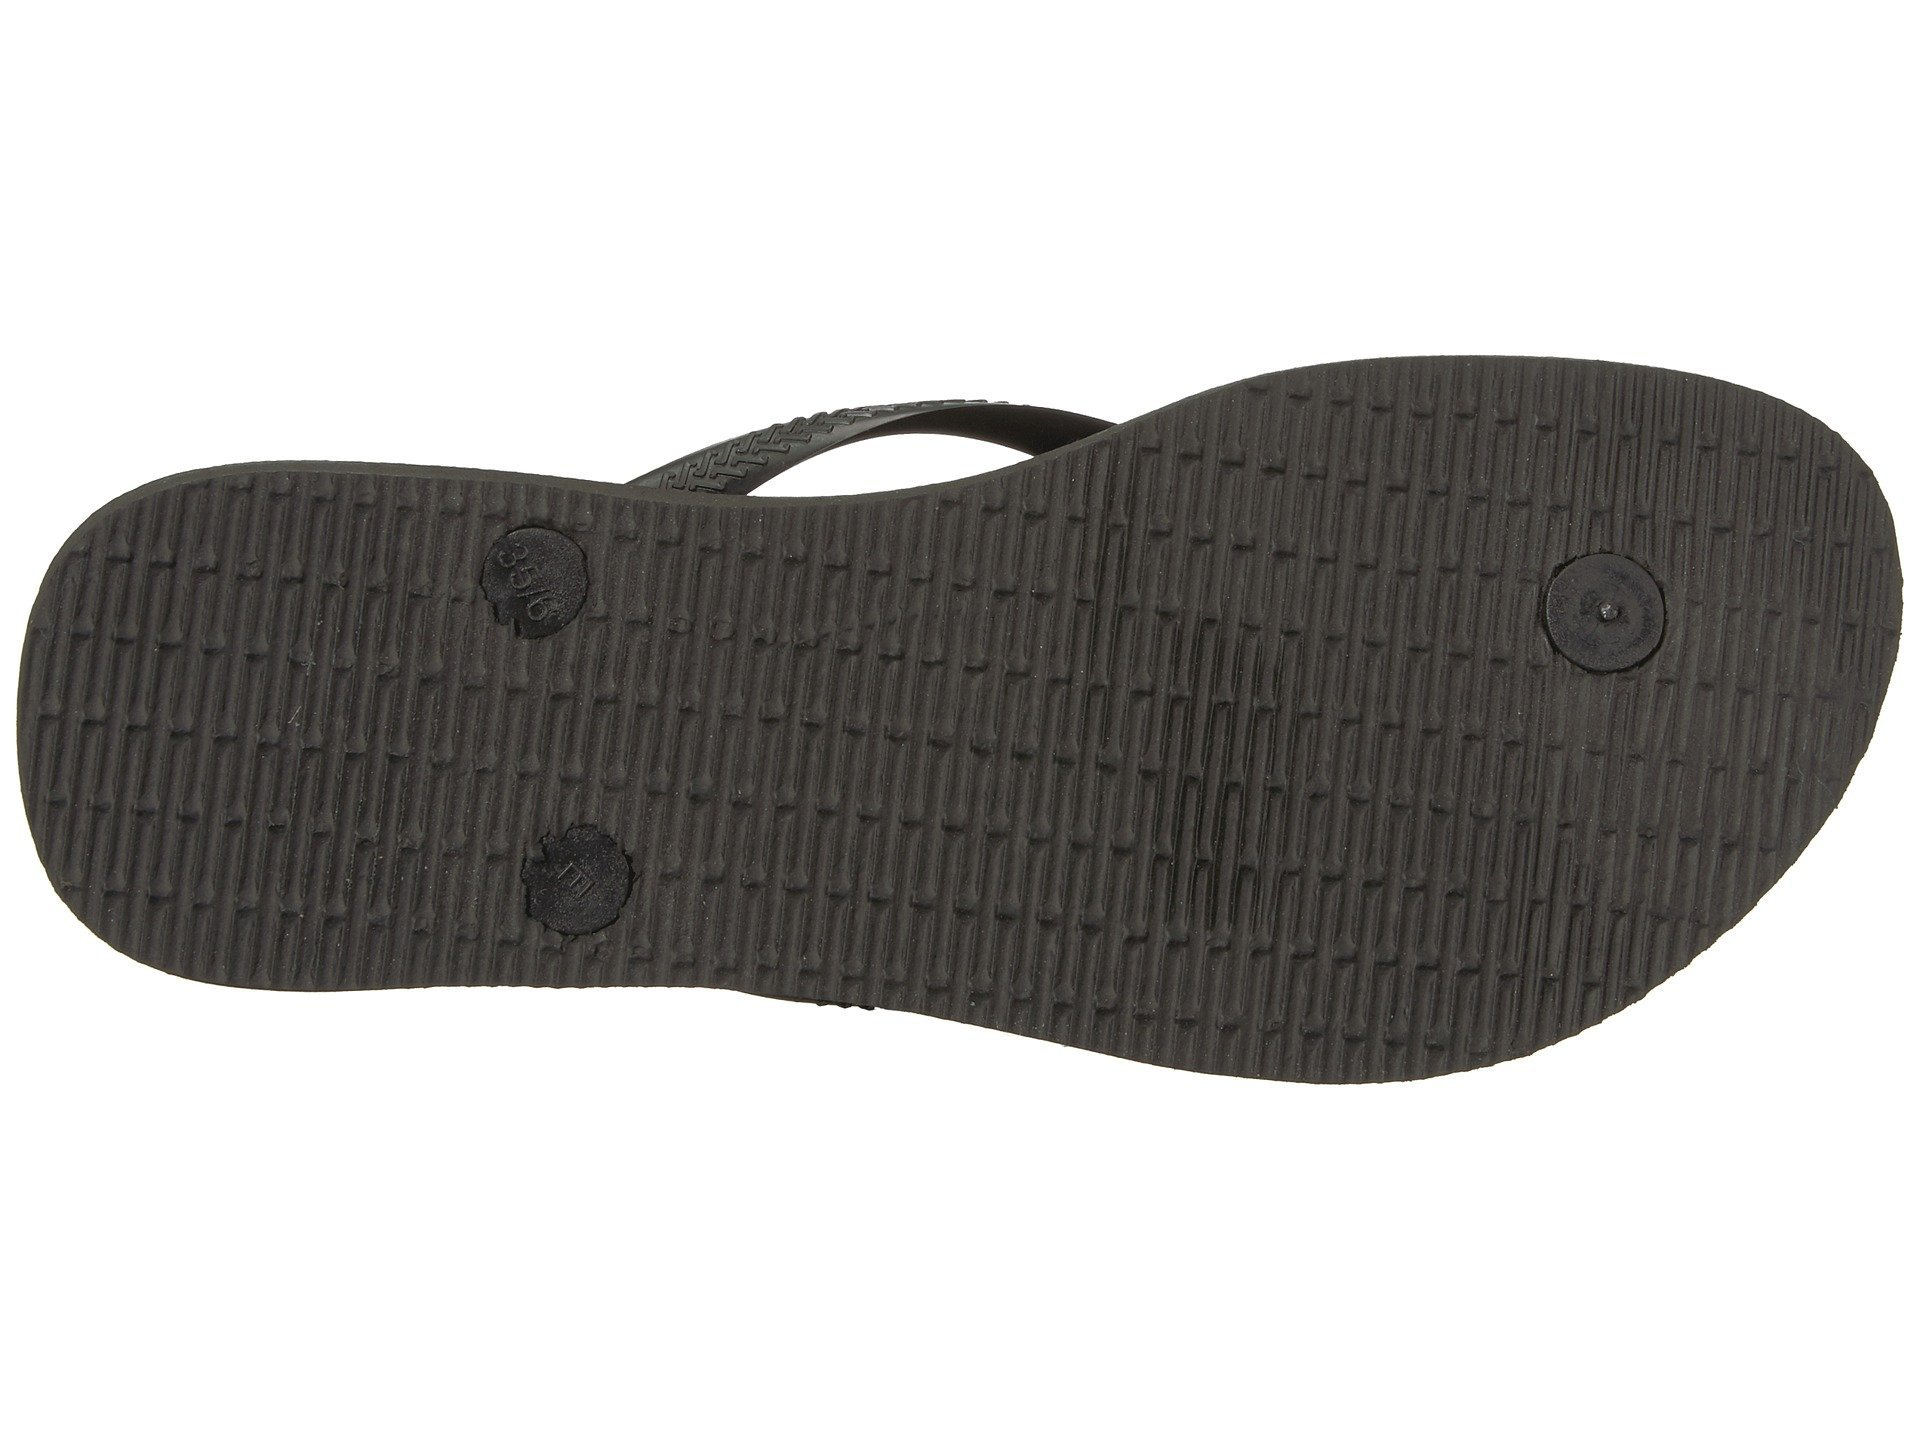circle: (1516, 523, 1677, 703), (508, 787, 656, 945), (469, 496, 603, 647)
text: (508, 787, 656, 945), (469, 496, 603, 647)
